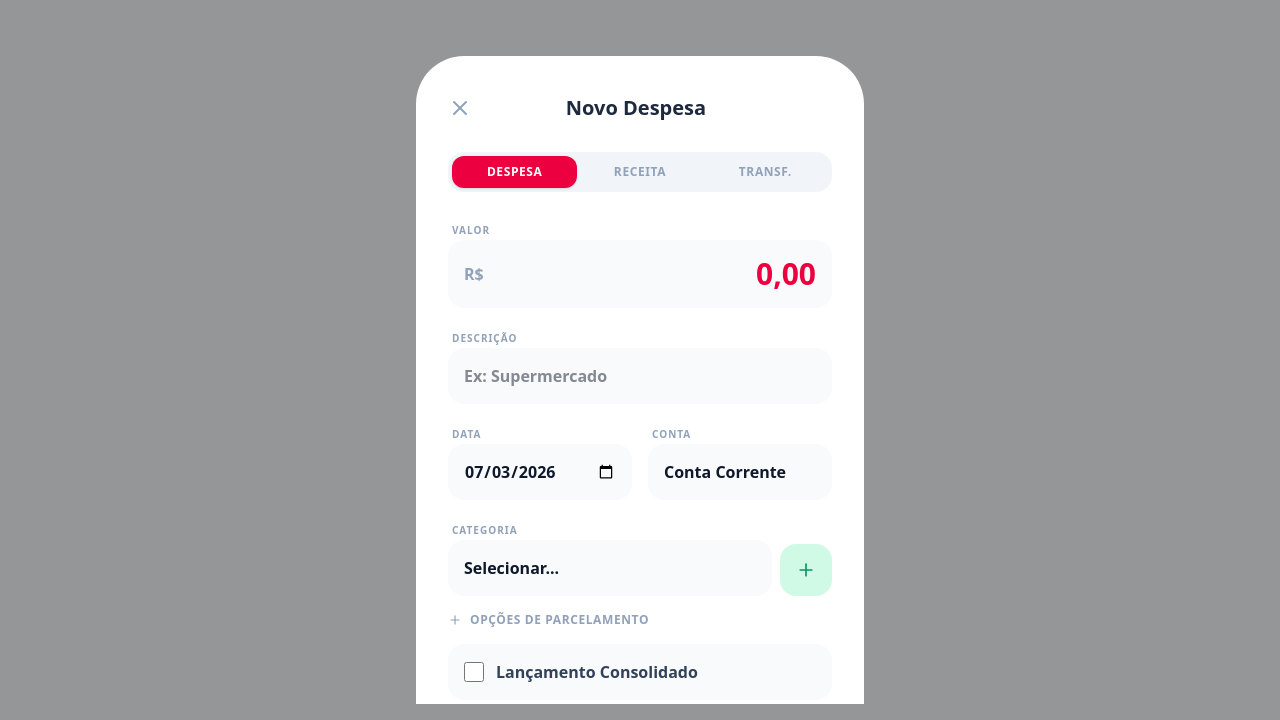
TransactionModal - Installment Total Calculation › does not show total calculation when installments is 1
The image size is (1280, 720).
Step 1. Click the button "Opções de Parcelamento" → click(548, 620), box [448, 612, 649, 628]
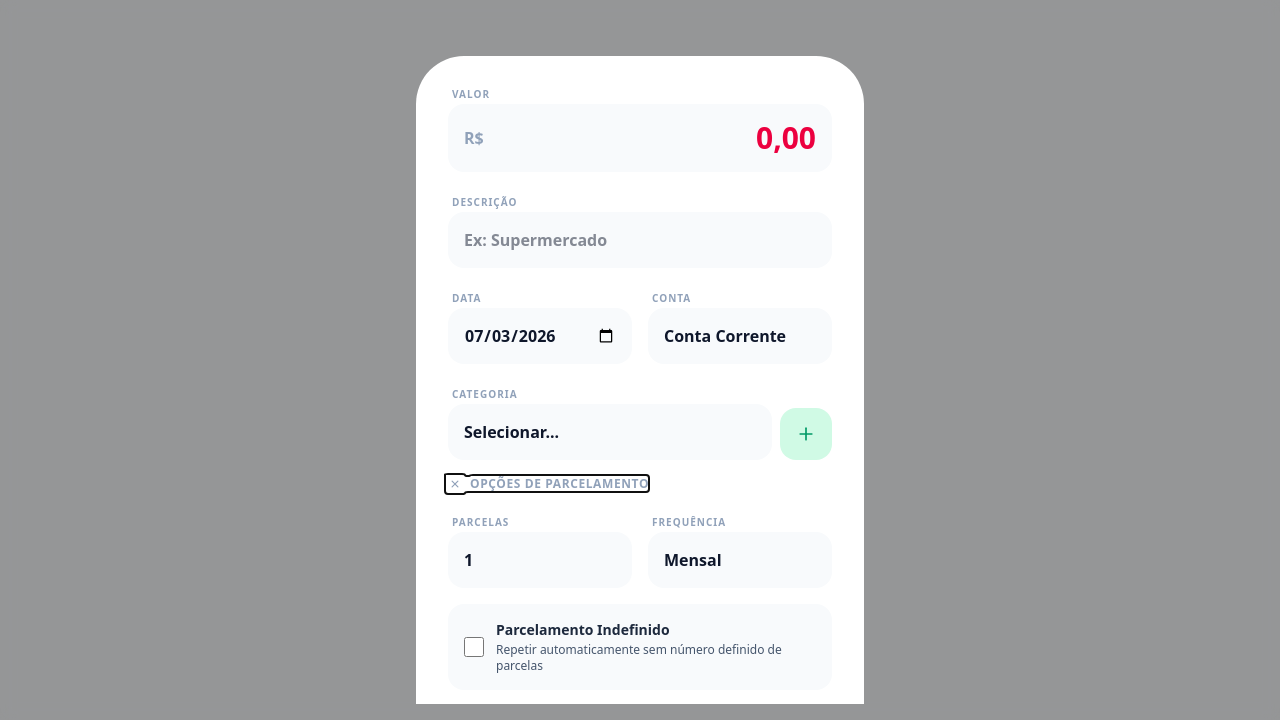
Result: the number field labelled "Parcelas" holds "1" at [448, 532, 632, 588]
